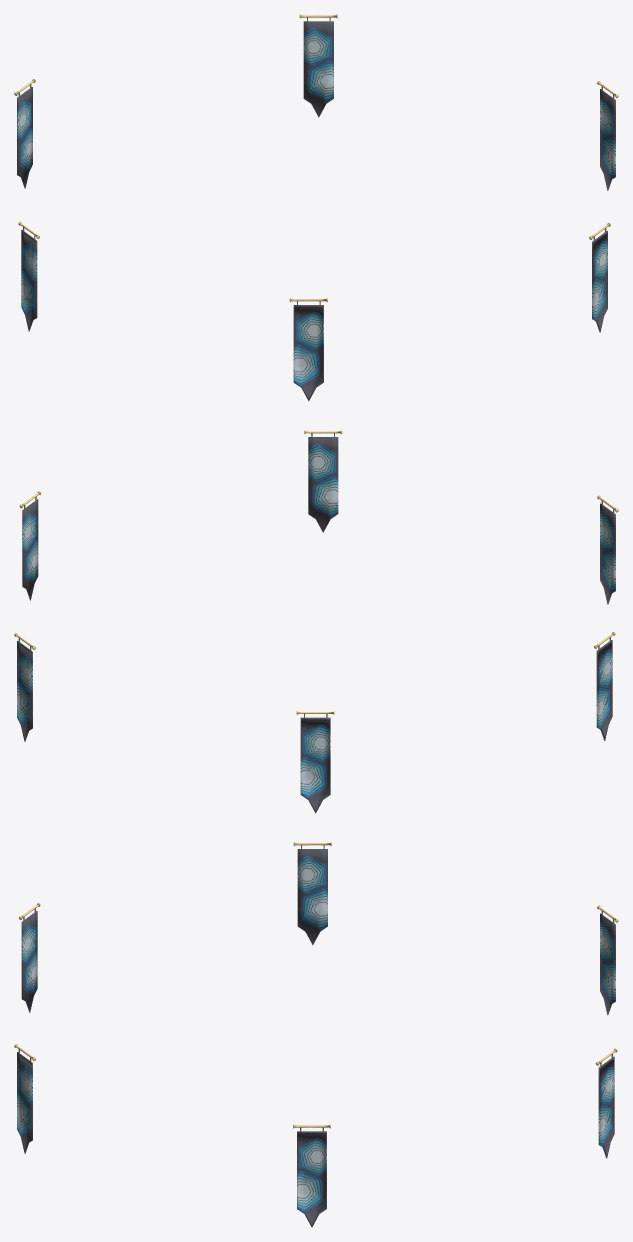
File: atrium_Banners.fbx
3 renders of one model, top to bottom at view 1: azimuth 30°, elevation 25°; view 2: azimuth 150°, elevation 25°; view 3: azimuth 270°, elevation 25°, orthographic.
Visible parts, largest first — view 1: Banner.005, Banner.002, Banner.003, Banner.001, Banner.004, Banner; view 2: Banner.001, Banner.004, Banner, Banner.003, Banner.002, Banner.005; view 3: Banner.003, Banner, Banner.005, Banner.002, Banner.004, Banner.001.
Boxes of the visible parts, left/top/right/bottom form: Banner.005: left=299, top=14, right=337, bottom=117; Banner.002: left=289, top=298, right=327, bottom=401; Banner.003: left=18, top=221, right=39, bottom=331; Banner.001: left=589, top=223, right=610, bottom=332; Banner.004: left=14, top=79, right=35, bottom=188; Banner: left=597, top=81, right=618, bottom=190; Banner.001: left=304, top=430, right=342, bottom=532; Banner.004: left=296, top=711, right=334, bottom=813; Banner: left=19, top=491, right=41, bottom=600; Banner.003: left=593, top=632, right=615, bottom=740; Banner.002: left=597, top=495, right=618, bottom=604; Banner.005: left=14, top=633, right=35, bottom=741; Banner.003: left=293, top=842, right=331, bottom=945; Banner: left=293, top=1124, right=330, bottom=1227; Banner.005: left=595, top=1048, right=617, bottom=1158; Banner.002: left=19, top=903, right=40, bottom=1012; Banner.004: left=597, top=905, right=618, bottom=1015; Banner.001: left=14, top=1044, right=35, bottom=1153.
Bounding box in the file's own units: 3863 × 652 × 3476.
Materials: 1 (1 with a texture image).
